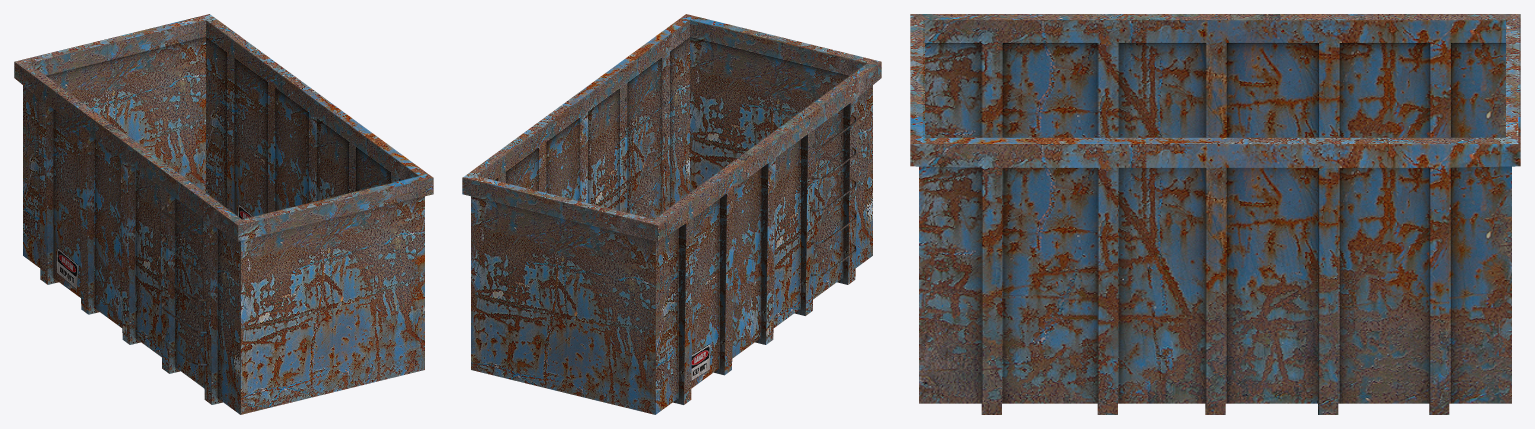
File: container1.fbx
3 views of the same model, side by side, from view 1: azimuth 30°, elevation 25°; view 2: azimuth 150°, elevation 25°; view 3: azimuth 270°, elevation 25° (orthographic). The views are drawn at different scales.
Visible parts, largest first — view 1: container1_Layer1; view 2: container1_Layer1; view 3: container1_Layer1.
Boxes of the visible parts, left/top/right/bottom form: container1_Layer1: left=14, top=14, right=433, bottom=414; container1_Layer1: left=462, top=14, right=881, bottom=414; container1_Layer1: left=910, top=14, right=1520, bottom=414.
Bounding box in the file's own units: 108 × 98.83 × 202.
Materials: 1 (1 with a texture image).
